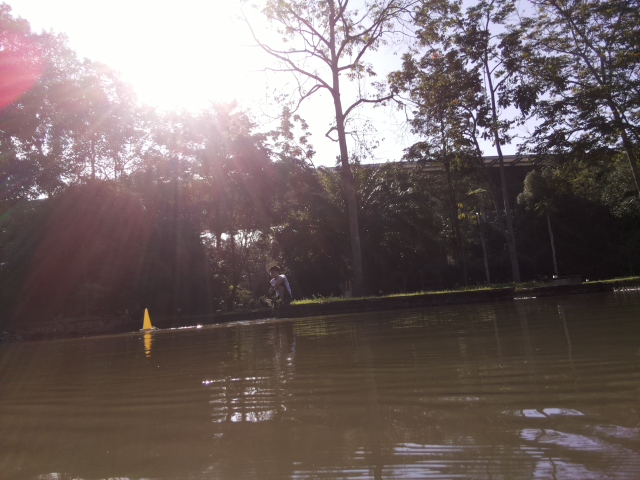checkpoint: (139, 307, 156, 333)
